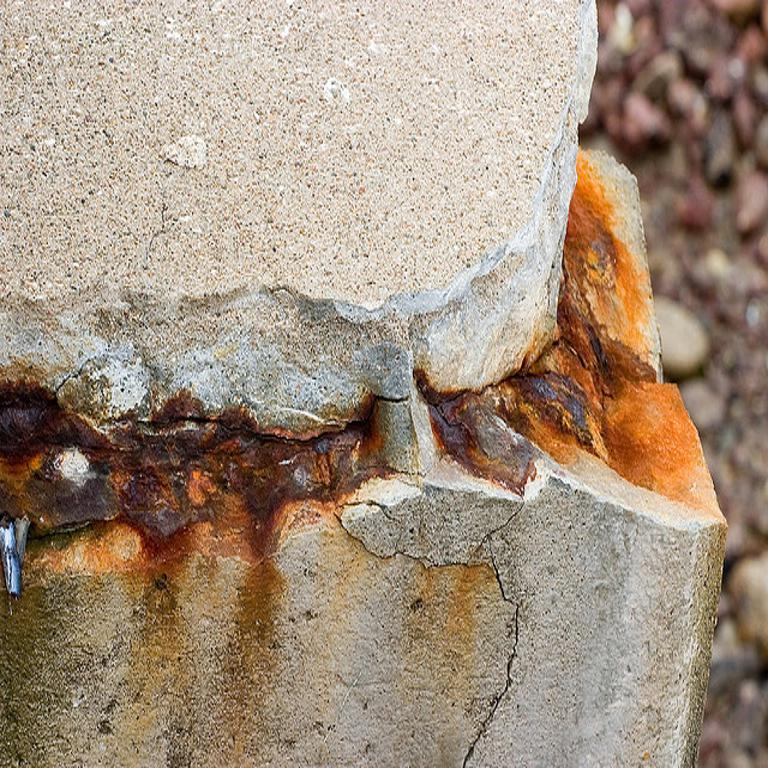spalling: (0, 4, 720, 596)
